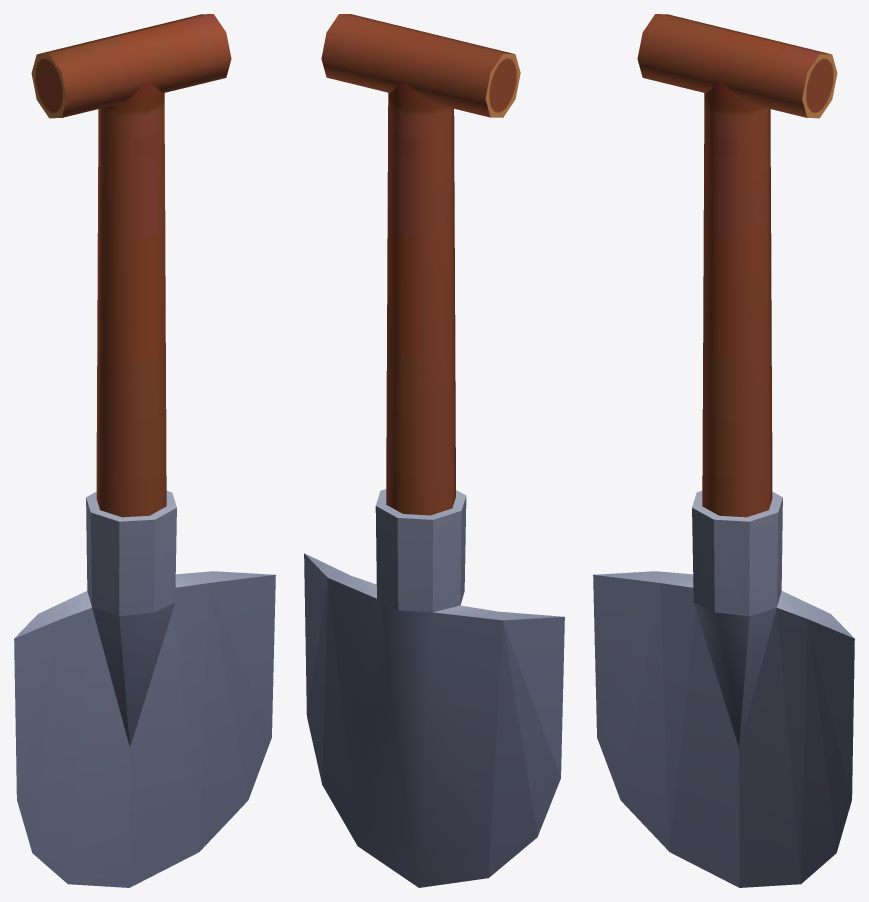
Rendered from ShovelQuestModel.fbx.
3 views of the same model, side by side, from view 1: azimuth 30°, elevation 25°; view 2: azimuth 150°, elevation 25°; view 3: azimuth 330°, elevation 25° (orthographic).
Parts seen in each view (by area): view 1: AxeGeo (1); view 2: AxeGeo (1); view 3: AxeGeo (1).
Part boxes in pixels (x1,y1,x2,y2): AxeGeo (1): (14,14,275,887); AxeGeo (1): (304,14,564,887); AxeGeo (1): (593,14,854,887).
Bounding box in the file's own units: 0.3908 × 1.22 × 0.1218.
